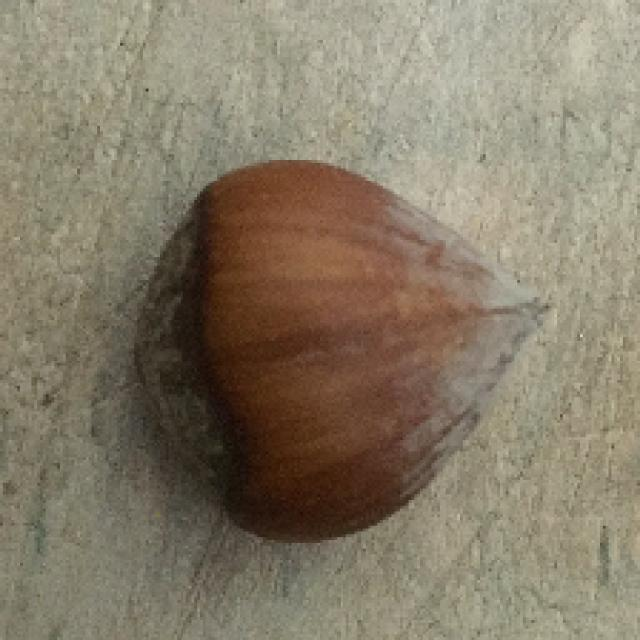damagedHazelnut: (121, 161, 542, 554)
